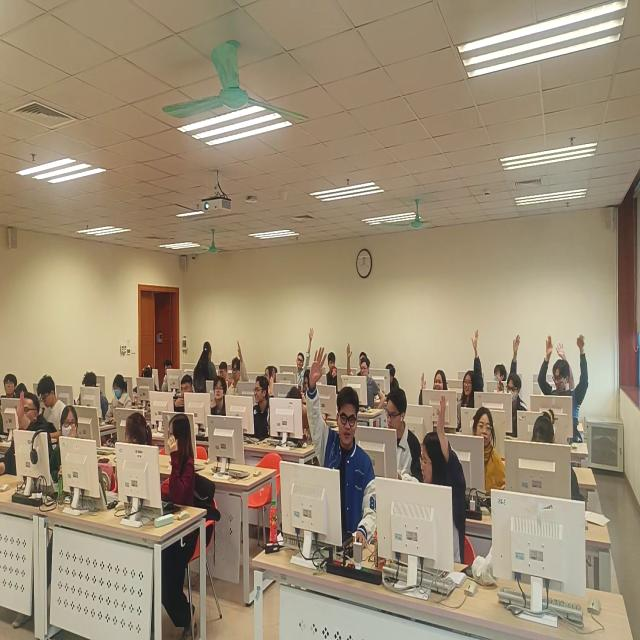raise_hand: (303, 349, 370, 544), (416, 402, 468, 566), (542, 336, 588, 440), (6, 393, 53, 486), (52, 413, 84, 501), (344, 341, 381, 417), (458, 327, 486, 421), (243, 375, 277, 445), (490, 335, 525, 387), (416, 367, 453, 409), (227, 339, 248, 410), (290, 330, 314, 388)
raise_head: (465, 409, 507, 503), (375, 393, 421, 477), (164, 375, 198, 426), (206, 375, 231, 426), (325, 352, 340, 387), (2, 372, 18, 404)
stand: (195, 342, 216, 415)
using_computer: (521, 418, 582, 510), (278, 384, 314, 459), (94, 374, 131, 433), (497, 374, 528, 440), (34, 375, 68, 433), (78, 369, 104, 417), (373, 364, 401, 397), (155, 360, 175, 401)
